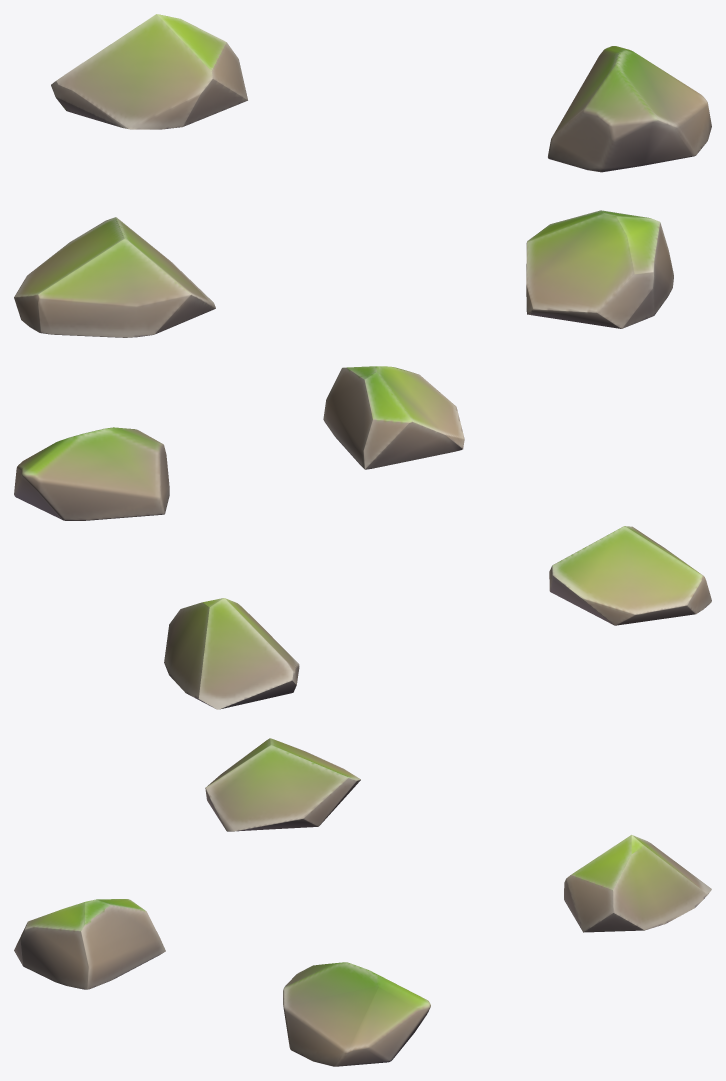
The model's file is rock_pebbles.glb.
3 views of the same model, one above another, from view 1: azimuth 30°, elevation 25°; view 2: azimuth 150°, elevation 25°; view 3: azimuth 270°, elevation 25° (orthographic). The views are drawn at different scales.
Parts seen in each view (by area): view 1: rock_pebbles; view 2: rock_pebbles; view 3: rock_pebbles.
Boxes of the visible parts, <box> form: rock_pebbles: <box>14,14,711,337</box>; rock_pebbles: <box>14,366,711,709</box>; rock_pebbles: <box>14,738,711,1066</box>.
Bounding box in the file's own units: 1.26 × 0.1452 × 1.22.
1 material, 1 textured.
